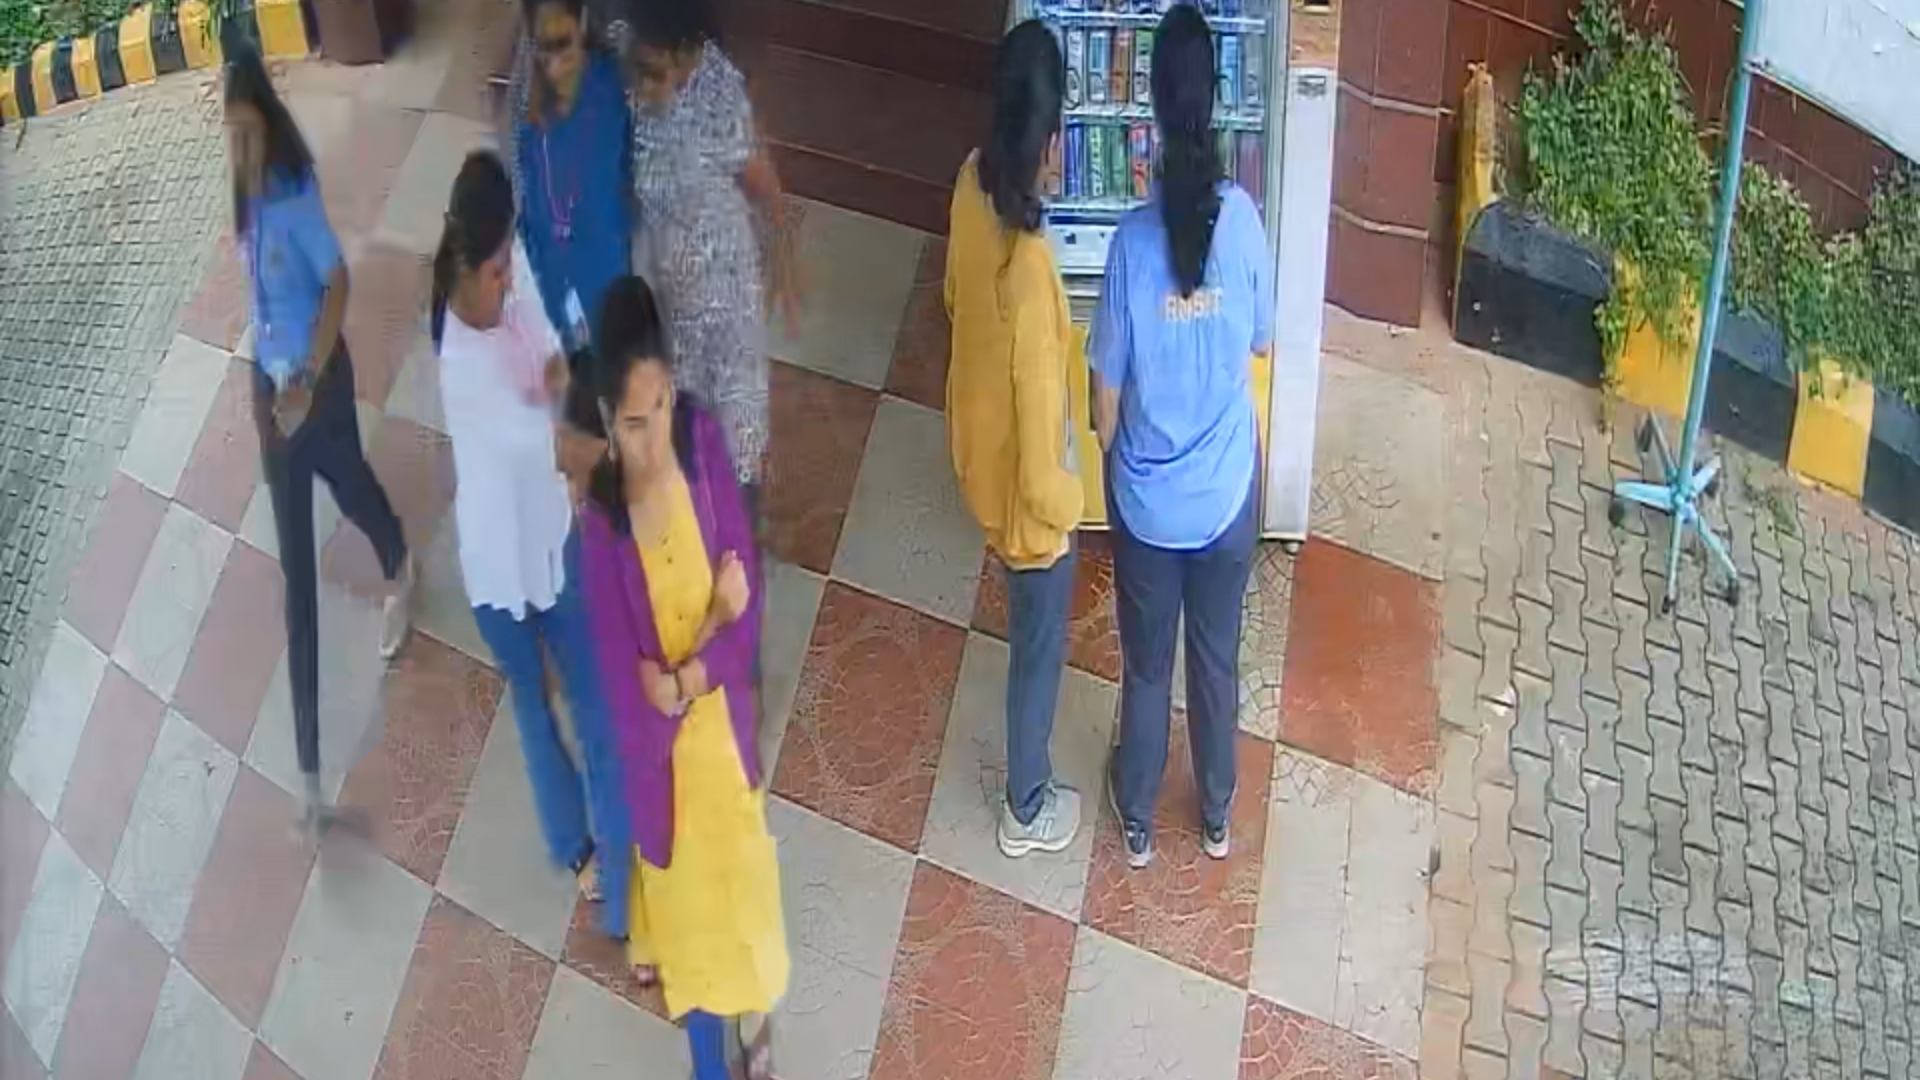intruder: (566, 262, 840, 1080), (196, 61, 430, 855), (415, 164, 650, 928), (615, 7, 783, 522)
not intruder: (498, 1, 629, 316)
